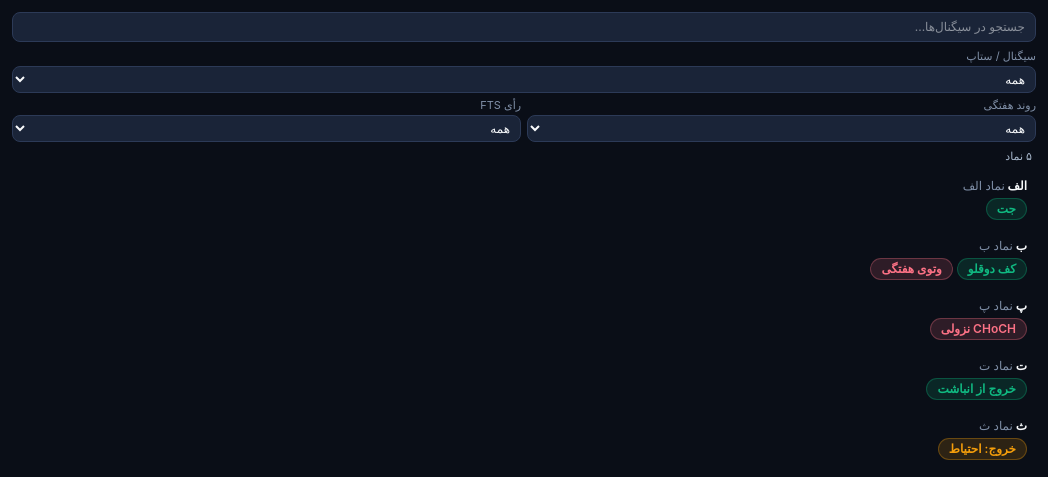
Test: فیلترهای کشوییِ سیگنال‌های FTS › جستجو با فیلترها AND می‌شود و بازنشانی همه را برمی‌گرداند
The width and height of the screenshot is (1048, 477).
Select "CHoCH نزولی" in the dropdown with test id "sidebar-fts-filter-kind" at (524, 79), box [12,66,1036,93]
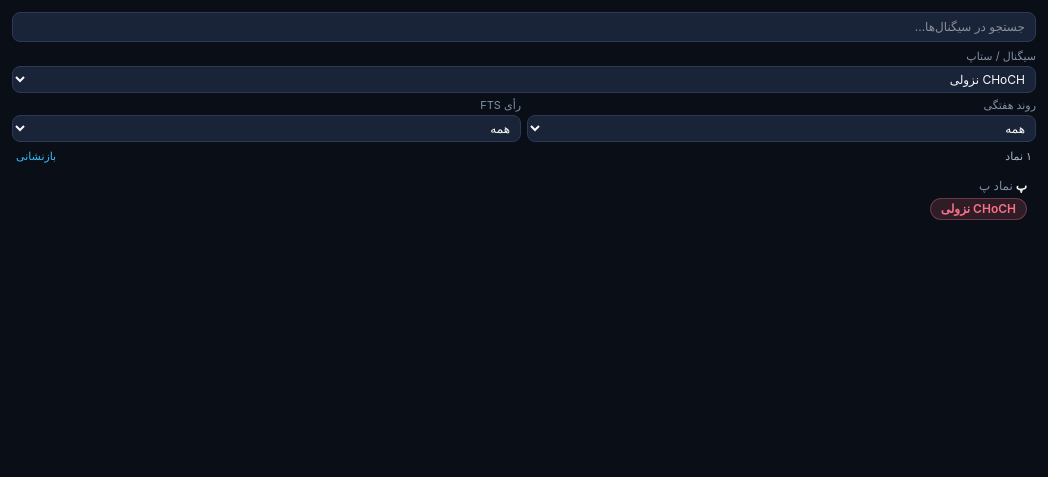
Type "ب" into the search field with test id "sidebar-fts-search" at (524, 27), box [12,12,1036,42]
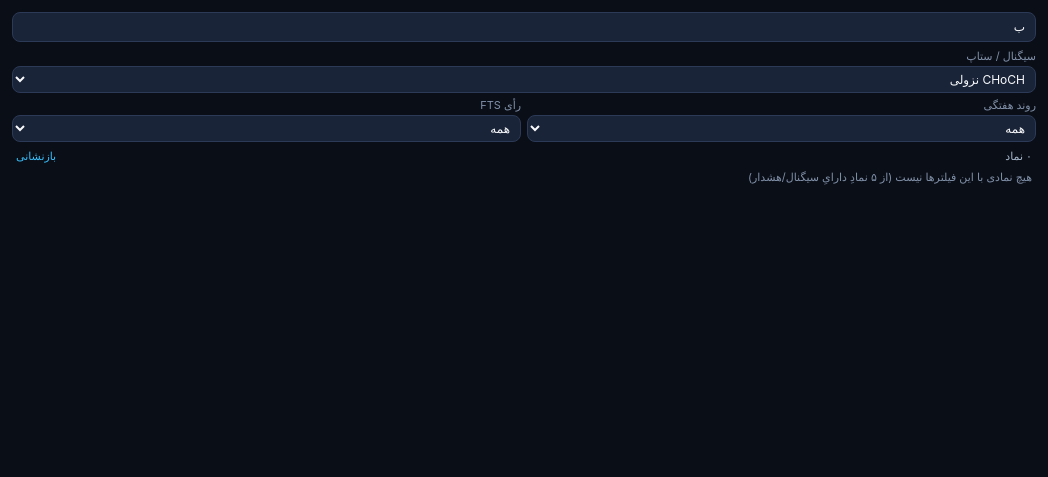
Click the button with test id "sidebar-fts-reset" at (36, 156), box [16,150,56,163]
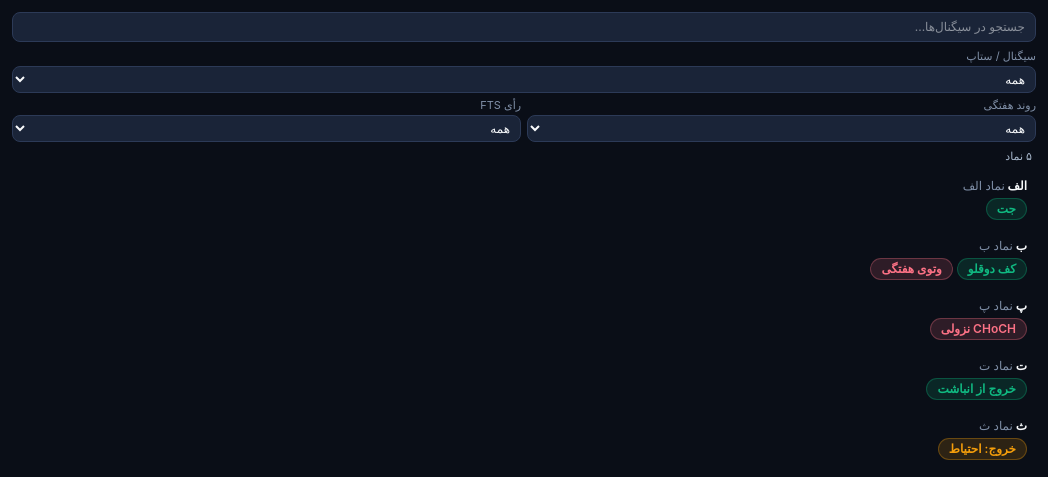
Expected: the search field with test id "sidebar-fts-search" is empty, [12,12,1036,42]
